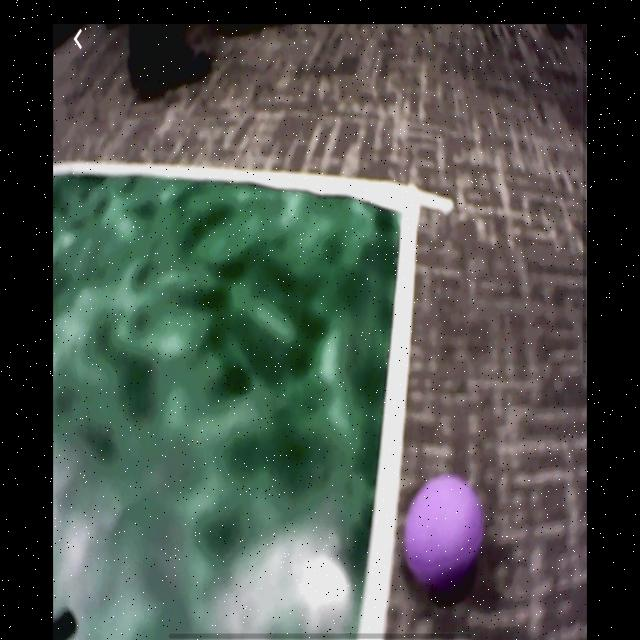ball: (404, 473, 484, 595)
